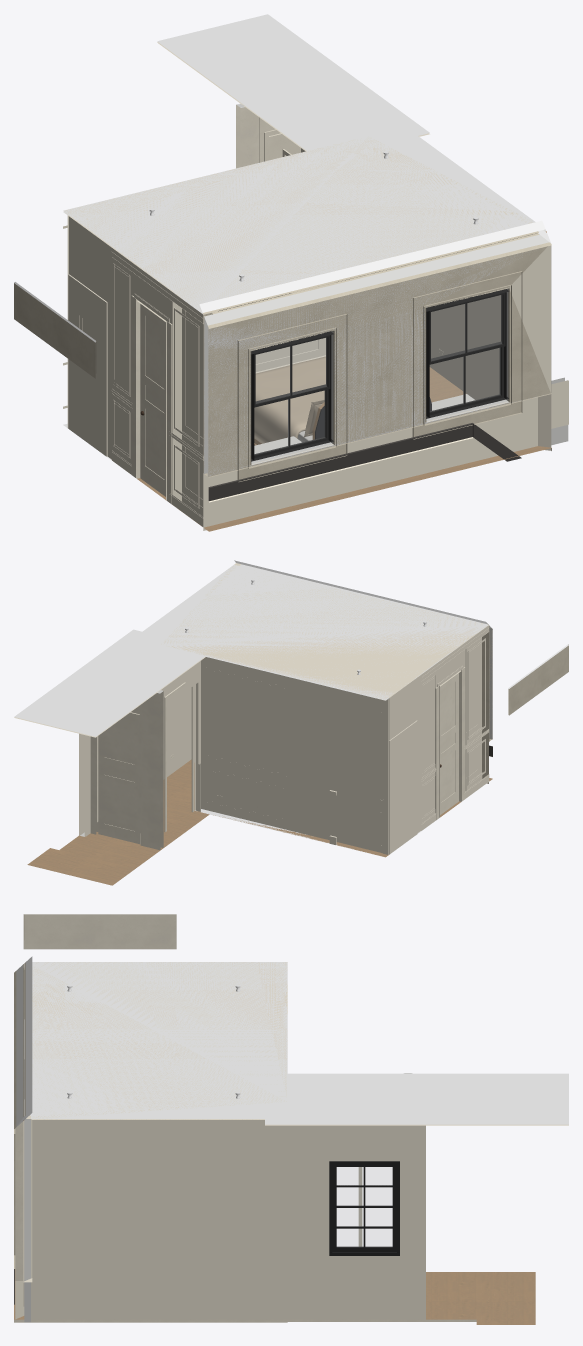
Rendered from blue-bedroom-d4cb47ba127b.glb.
3 renders of one model, top to bottom at view 1: azimuth 30°, elevation 25°; view 2: azimuth 150°, elevation 25°; view 3: azimuth 270°, elevation 25°, orthographic. The views are drawn at different scales.
Parts seen in each view (by area): view 1: blue-bedroom-9d91b47435c6fb33, blue-bedroom-bddaf205afbd60c0, blue-bedroom-e8793759323e04f0, blue-bedroom-look-9d91b47435c6fb33, blue-bedroom-df3e1f21720b0c39, blue-bedroom-2f7d8eff34a2c180, blue-bedroom-ed5fdcd3ee9c0dd5, blue-bedroom-3c3de67e8dd93323, blue-bedroom-649b3532e9781727, blue-bedroom-64753ebcb3824a84, blue-bedroom-746250f96522f643, blue-bedroom-ead09a0b3f9e3bd9 (+16 smaller); view 2: blue-bedroom-6e269356ae8bfd70, blue-bedroom-9d91b47435c6fb33, blue-bedroom-e8793759323e04f0, blue-bedroom-look-9d91b47435c6fb33, blue-bedroom-ed5fdcd3ee9c0dd5, blue-bedroom-look-dcc0092055abeaa8, blue-bedroom-look-2575515a05775d9e, blue-bedroom-look-eb02897c2e79e2b1, blue-bedroom-ead09a0b3f9e3bd9, blue-bedroom-3e649b0d114ae387, blue-bedroom-bf159a19de53e60e, blue-bedroom-746250f96522f643 (+13 smaller); view 3: blue-bedroom-746250f96522f643, blue-bedroom-9d91b47435c6fb33, blue-bedroom-look-746250f96522f643, blue-bedroom-e8793759323e04f0, blue-bedroom-look-9d91b47435c6fb33, blue-bedroom-look-5035c6783c6505b3, blue-bedroom-look-2575515a05775d9e, blue-bedroom-look-3a4d9d62ecd7be1c, blue-bedroom-0a6e1f8a567f4490, blue-bedroom-64753ebcb3824a84, blue-bedroom-2575515a05775d9e, blue-bedroom-49f6d498b24b79cd.
Part boxes in pixels (x1=…): blue-bedroom-9d91b47435c6fb33: x1=63, y1=127, x2=538, y2=314; blue-bedroom-bddaf205afbd60c0: x1=207, y1=242, x2=550, y2=476; blue-bedroom-e8793759323e04f0: x1=64, y1=138, x2=545, y2=312; blue-bedroom-look-9d91b47435c6fb33: x1=157, y1=14, x2=429, y2=151; blue-bedroom-df3e1f21720b0c39: x1=208, y1=243, x2=551, y2=475; blue-bedroom-2f7d8eff34a2c180: x1=203, y1=393, x2=551, y2=530; blue-bedroom-ed5fdcd3ee9c0dd5: x1=67, y1=215, x2=181, y2=500; blue-bedroom-3c3de67e8dd93323: x1=251, y1=330, x2=333, y2=461; blue-bedroom-649b3532e9781727: x1=426, y1=289, x2=509, y2=418; blue-bedroom-64753ebcb3824a84: x1=204, y1=234, x2=548, y2=476; blue-bedroom-746250f96522f643: x1=398, y1=234, x2=532, y2=399; blue-bedroom-ead09a0b3f9e3bd9: x1=68, y1=274, x2=107, y2=456; blue-bedroom-6e269356ae8bfd70: x1=200, y1=656, x2=389, y2=855; blue-bedroom-9d91b47435c6fb33: x1=134, y1=564, x2=488, y2=700; blue-bedroom-e8793759323e04f0: x1=161, y1=560, x2=488, y2=698; blue-bedroom-look-9d91b47435c6fb33: x1=14, y1=629, x2=205, y2=737; blue-bedroom-ed5fdcd3ee9c0dd5: x1=382, y1=641, x2=465, y2=854; blue-bedroom-look-dcc0092055abeaa8: x1=98, y1=712, x2=140, y2=844; blue-bedroom-look-2575515a05775d9e: x1=27, y1=803, x2=209, y2=885; blue-bedroom-look-eb02897c2e79e2b1: x1=90, y1=690, x2=163, y2=850; blue-bedroom-ead09a0b3f9e3bd9: x1=389, y1=720, x2=417, y2=854; blue-bedroom-3e649b0d114ae387: x1=465, y1=625, x2=488, y2=790; blue-bedroom-bf159a19de53e60e: x1=440, y1=673, x2=458, y2=814; blue-bedroom-746250f96522f643: x1=161, y1=672, x2=191, y2=779; blue-bedroom-746250f96522f643: x1=32, y1=1119, x2=287, y2=1319; blue-bedroom-9d91b47435c6fb33: x1=24, y1=962, x2=287, y2=1119; blue-bedroom-look-746250f96522f643: x1=287, y1=1125, x2=425, y2=1319; blue-bedroom-e8793759323e04f0: x1=25, y1=956, x2=287, y2=1118; blue-bedroom-look-9d91b47435c6fb33: x1=265, y1=1073, x2=568, y2=1125; blue-bedroom-look-5035c6783c6505b3: x1=329, y1=1161, x2=399, y2=1255; blue-bedroom-look-2575515a05775d9e: x1=287, y1=1272, x2=535, y2=1324; blue-bedroom-look-3a4d9d62ecd7be1c: x1=23, y1=914, x2=176, y2=949; blue-bedroom-0a6e1f8a567f4490: x1=15, y1=1121, x2=22, y2=1281; blue-bedroom-64753ebcb3824a84: x1=16, y1=964, x2=23, y2=1126; blue-bedroom-2575515a05775d9e: x1=14, y1=1269, x2=287, y2=1322; blue-bedroom-49f6d498b24b79cd: x1=24, y1=1118, x2=30, y2=1281.
Bounding box in the file's own units: 6.73 × 3.04 × 7.3.
Materials: 34 (5 with a texture image).
